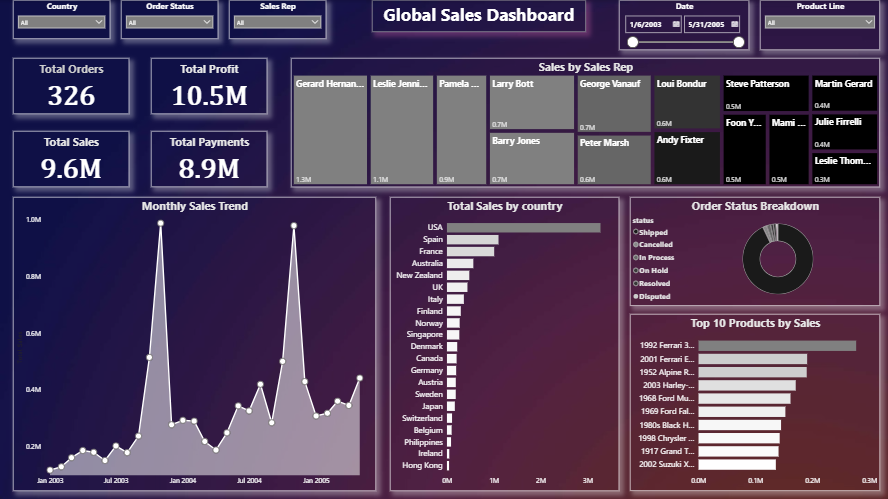

The page's visual inventory and layout, read from the dashboard file:
{"tool":"powerbi","page":{"name":"Page 1","canvas":[1920,1080],"ordinal":0},"visuals":[{"type":"textbox","box":[803.5,0,462.2,69.1],"z":0},{"type":"card","title":"Total Orders","fields":{"Values":["CountNonNull(orders.orderNumber)"]},"box":[28.8,125.7,250.6,121],"z":1000},{"type":"card","title":"Total Sales","fields":{"Values":["_Measures.Total Sales"]},"box":[28.8,283.4,250.6,121],"z":2000},{"type":"card","title":"Total Profit","fields":{"Values":["_Measures.Total Profit"]},"box":[326.9,125.7,250.6,121],"z":3000},{"type":"card","title":"Total Payments","fields":{"Values":["_Measures.Total Payments"]},"box":[326.9,283.4,250.6,121],"z":4000},{"type":"lineChart","title":"Monthly Sales Trend","fields":{"Y":["_Measures.Total Sales"],"Category":["orders.orderDate.Variation.Date Hierarchy.Year","orders.orderDate.Variation.Date Hierarchy.Month"]},"box":[28.1,425.5,784.1,635],"z":5000},{"type":"barChart","fields":{"Y":["_Measures.Total Sales"],"Category":["customers.country"]},"box":[842.4,425.5,494.6,635],"z":6000},{"type":"barChart","title":"Top 10 Products by Sales","fields":{"Y":["_Measures.Total Sales"],"Category":["products.productName"]},"box":[1360.8,678.2,540,382.3],"z":7000},{"type":"treemap","title":"Sales by Sales Rep","fields":{"Group":["employees.Full Name"],"Values":["_Measures.Total Sales"]},"box":[629.3,125.7,1272.2,278.6],"z":8000},{"type":"donutChart","title":"Order Status Breakdown","fields":{"Category":["orders.status"],"Y":["CountNonNull(orders.orderNumber)"]},"box":[1361.5,425.9,540,235.4],"z":9000},{"type":"slicer","title":"Date","fields":{"Values":["Date.Date"]},"box":[1337,0,280.8,108],"z":10000},{"type":"slicer","title":"Country","fields":{"Values":["customers.country"]},"box":[28.1,0,209.5,84.2],"z":11000},{"type":"slicer","title":"Order Status","fields":{"Values":["orders.status"]},"box":[261.4,0,209.5,84.2],"z":12000},{"type":"slicer","title":"Sales Rep","fields":{"Values":["employees.Full Name"]},"box":[494.6,0,209.5,84.2],"z":13000},{"type":"slicer","title":"Product Line","fields":{"Values":["productlines.productLine"]},"box":[1641.6,0,259.2,108],"z":13001}]}

Visuals, with their boxes in screenshot pixels (x1, y1, x2, y2), scaled from the page's 1920x1080 canvas onto the 888x499 screenshot:
textbox: <bbox>372, 0, 585, 32</bbox>
"Total Orders" card: <bbox>13, 58, 129, 114</bbox>
"Total Sales" card: <bbox>13, 131, 129, 187</bbox>
"Total Profit" card: <bbox>151, 58, 267, 114</bbox>
"Total Payments" card: <bbox>151, 131, 267, 187</bbox>
"Monthly Sales Trend" lineChart: <bbox>13, 197, 376, 490</bbox>
barChart - _Measures.Total Sales x customers.country: <bbox>390, 197, 618, 490</bbox>
"Top 10 Products by Sales" barChart: <bbox>629, 313, 879, 490</bbox>
"Sales by Sales Rep" treemap: <bbox>291, 58, 879, 187</bbox>
"Order Status Breakdown" donutChart: <bbox>630, 197, 879, 306</bbox>
"Date" slicer: <bbox>618, 0, 748, 50</bbox>
"Country" slicer: <bbox>13, 0, 110, 39</bbox>
"Order Status" slicer: <bbox>121, 0, 218, 39</bbox>
"Sales Rep" slicer: <bbox>229, 0, 326, 39</bbox>
"Product Line" slicer: <bbox>759, 0, 879, 50</bbox>
